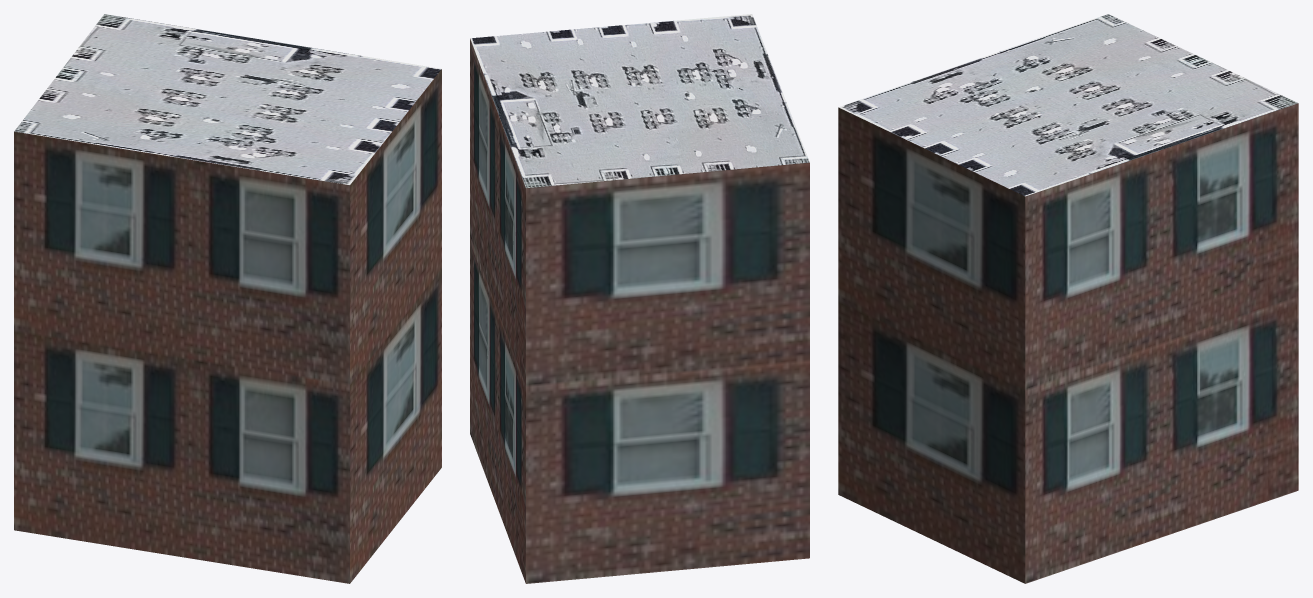
Rendered from ResTex__1525.fbx.
3 views of the same model, side by side, from view 1: azimuth 30°, elevation 25°; view 2: azimuth 150°, elevation 25°; view 3: azimuth 270°, elevation 25° (orthographic). The views are drawn at different scales.
Parts seen in each view (by area): view 1: CityEngineMaterial_14_m, CityEngineMaterial_m; view 2: CityEngineMaterial_14_m, CityEngineMaterial_m; view 3: CityEngineMaterial_14_m, CityEngineMaterial_m.
Part boxes in pixels (left/top/right/bottom): CityEngineMaterial_14_m: left=14, top=69, right=441, bottom=583; CityEngineMaterial_m: left=14, top=14, right=441, bottom=184; CityEngineMaterial_14_m: left=470, top=38, right=809, bottom=583; CityEngineMaterial_m: left=470, top=14, right=809, bottom=187; CityEngineMaterial_14_m: left=838, top=103, right=1298, bottom=583; CityEngineMaterial_m: left=839, top=14, right=1298, bottom=196.
Bounding box in the file's own units: 6.06 × 6 × 6.46.
Materials: 2 (2 with a texture image).
